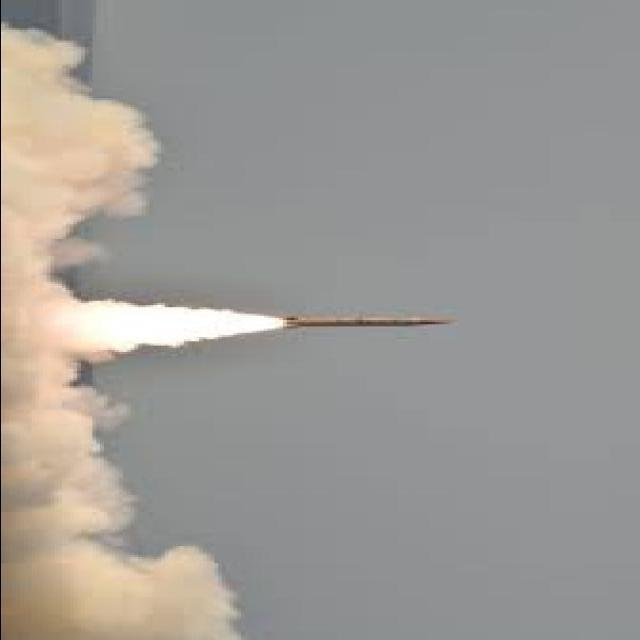missile: (282, 309, 448, 333)
